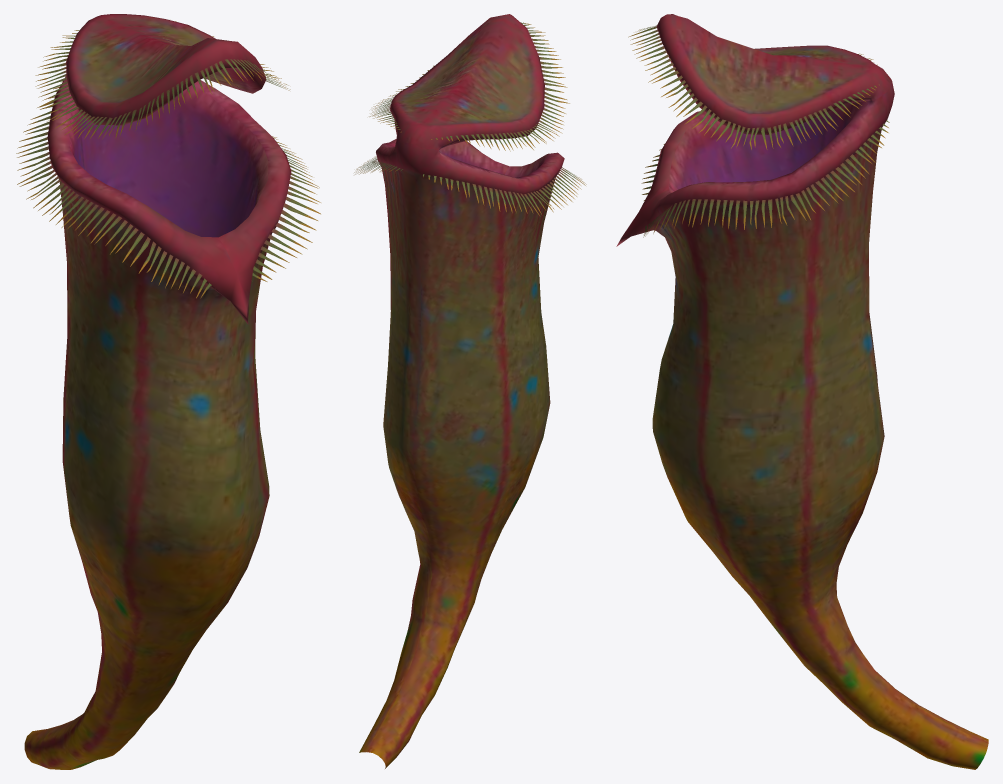
File: Plant - Alien Nephente2-Dc129Vr4.glb
The picture shows the model from 3 angles, left to right: view 1: azimuth 30°, elevation 25°; view 2: azimuth 150°, elevation 25°; view 3: azimuth 270°, elevation 25°; orthographic projection. The views are drawn at different scales.
Visible parts, largest first — view 1: Nephente2(Clone), Nephente2_edge(Clone); view 2: Nephente2(Clone), Nephente2_edge(Clone); view 3: Nephente2(Clone), Nephente2_edge(Clone).
Boxes of the visible parts, <box> form: Nephente2(Clone): <box>24,14,291,769</box>; Nephente2_edge(Clone): <box>16,21,320,298</box>; Nephente2(Clone): <box>359,14,564,768</box>; Nephente2_edge(Clone): <box>354,22,586,215</box>; Nephente2(Clone): <box>616,14,988,769</box>; Nephente2_edge(Clone): <box>628,25,889,237</box>.
Bounding box in the file's own units: 0.5001 × 1.59 × 0.7132.
Materials: 2 (2 with a texture image).
